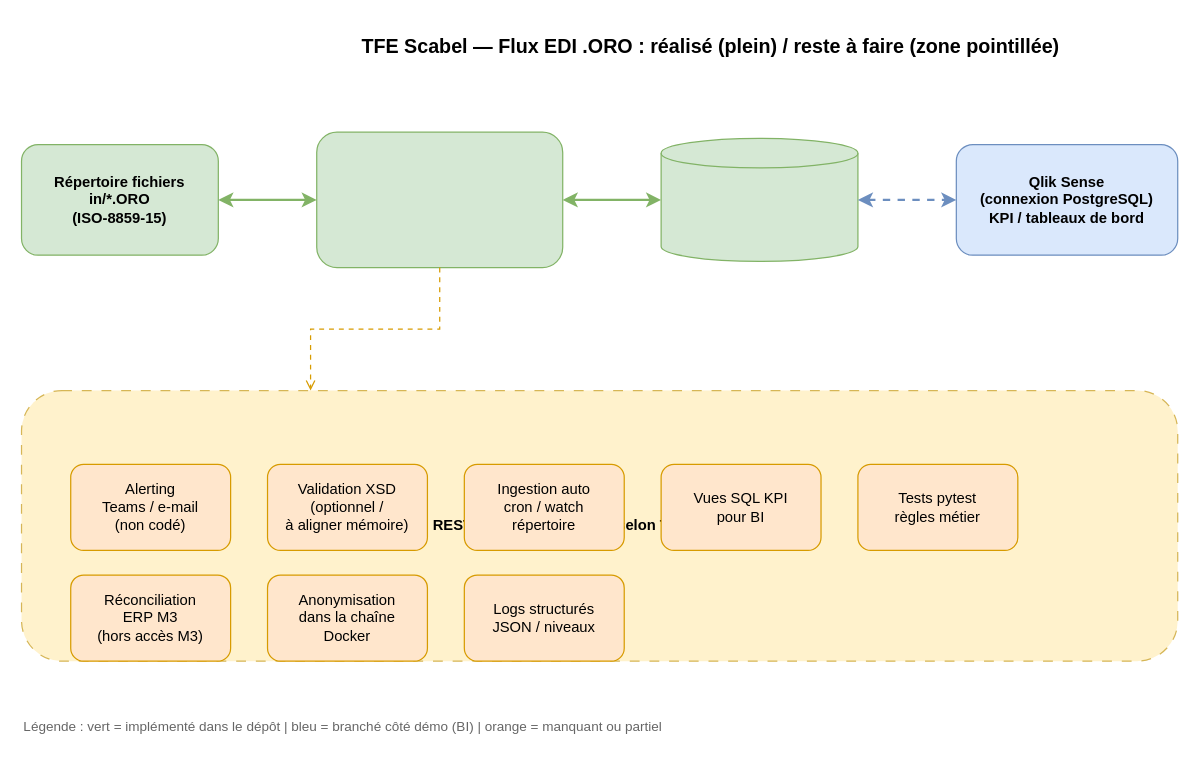
This 1199x780 diagram has some shape labels left out. Here are the shapes that lost their labels. From the top down, the centre of each, then its label:
At (x=439, y=199): "Validateur Python (Docker) • R01–R10 • SHA-256 • OK / KO / PARSE_ERROR".
At (x=759, y=199): "PostgreSQL 16 validation_runs validation_errors".
